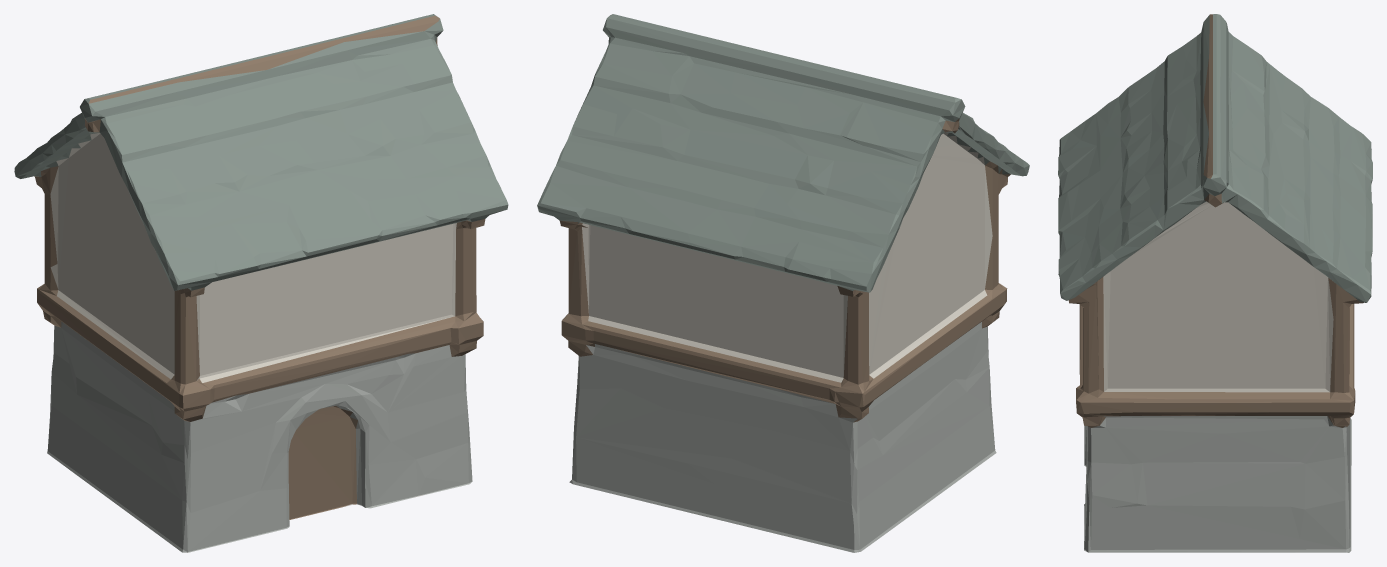
3 views of the same model, side by side, from view 1: azimuth 30°, elevation 25°; view 2: azimuth 150°, elevation 25°; view 3: azimuth 270°, elevation 25° (orthographic). The views are drawn at different scales.
Parts seen in each view (by area): view 1: geometry_0; view 2: geometry_0; view 3: geometry_0.
Part boxes in pixels (x1=…): geometry_0: x1=14, y1=14, x2=508, y2=552; geometry_0: x1=537, y1=14, x2=1029, y2=552; geometry_0: x1=1058, y1=14, x2=1372, y2=552.
Size of the model in its own units: 0.8585 by 0.9563 by 0.6971.
